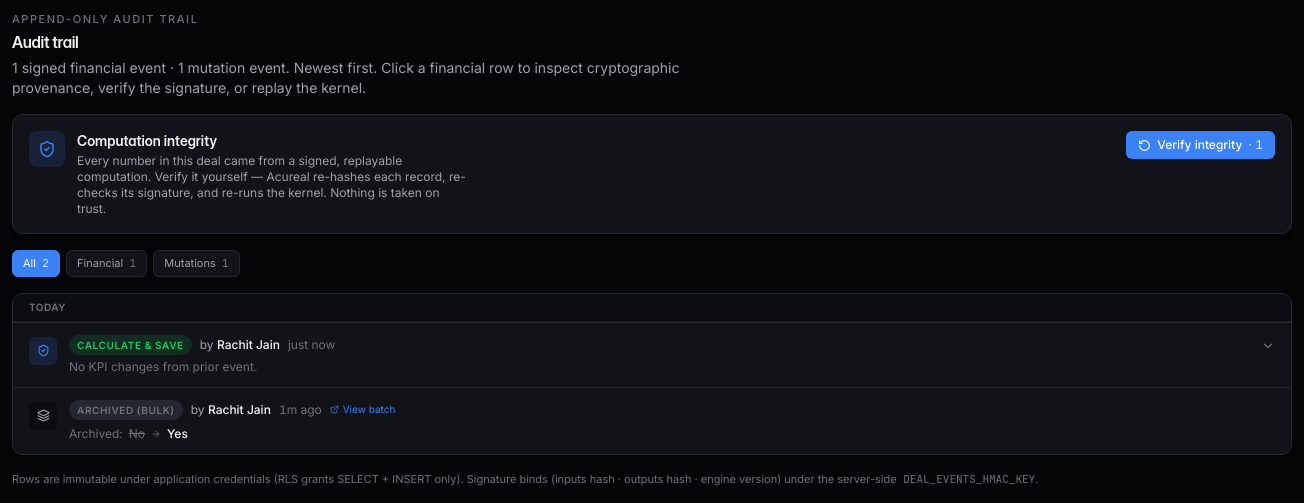
AuditTab UX upgrades › renders the filter chips with counts and lets the user filter to mutations
# Click Mutations — financial row should drop out of view.
Click the tab "Mutations 1" at (197, 264), box 153,250 -> 240,277
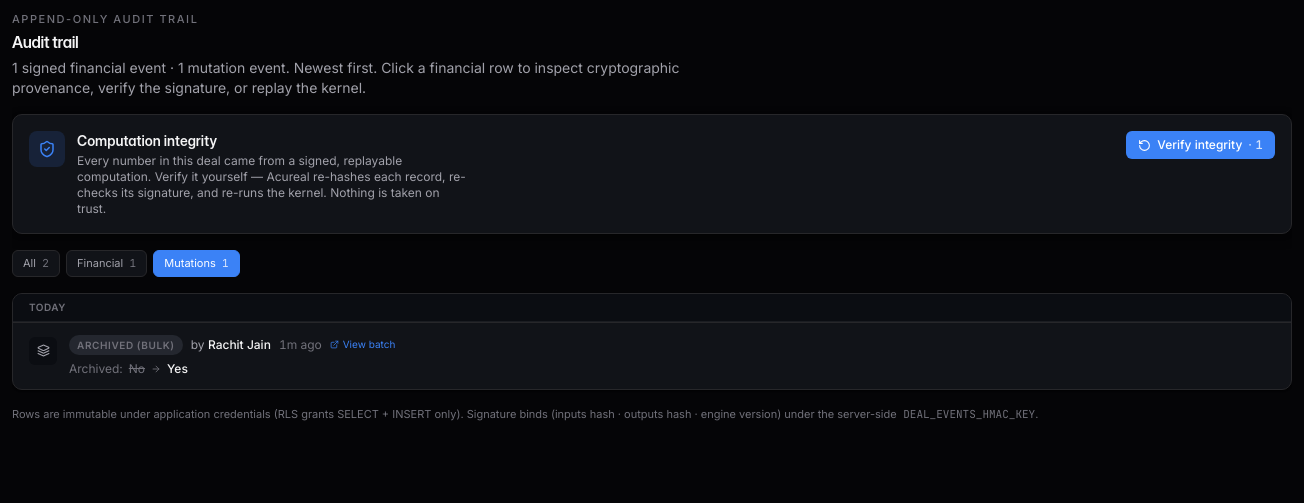
Check: the text "Archived (bulk)" is shown, box 69,335 -> 183,355
Check: the button "Calculate & Save" is gone
# Click Financial — bulk row should drop out, financial row visible.
Click the tab "Financial 1" at (107, 264), box 66,250 -> 147,277
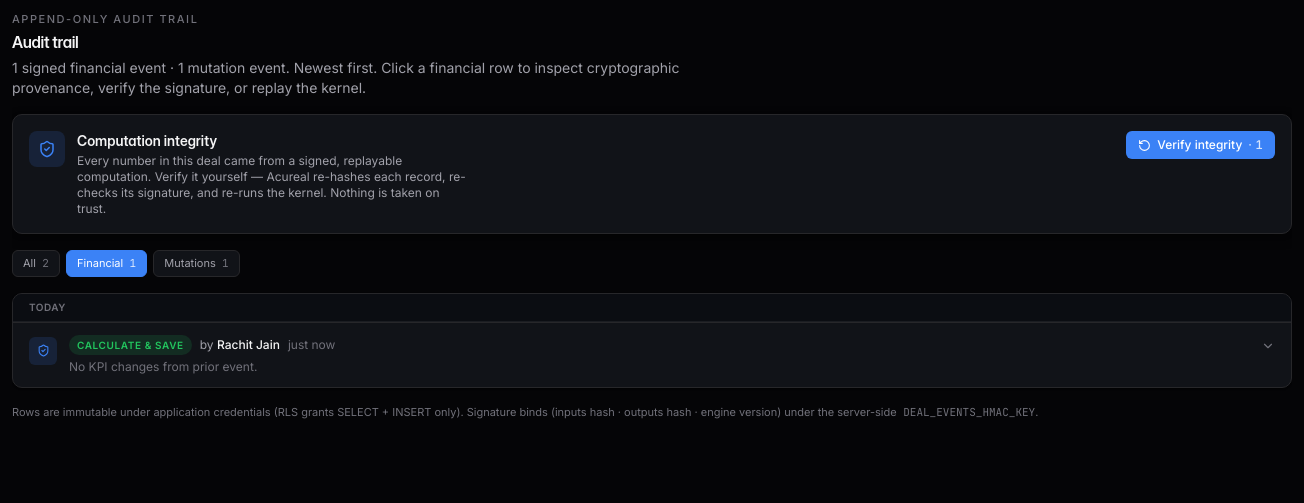
Check: the text "Calculate & Save" is shown, box 69,335 -> 192,355
Check: the text "Archived (bulk)" is gone
